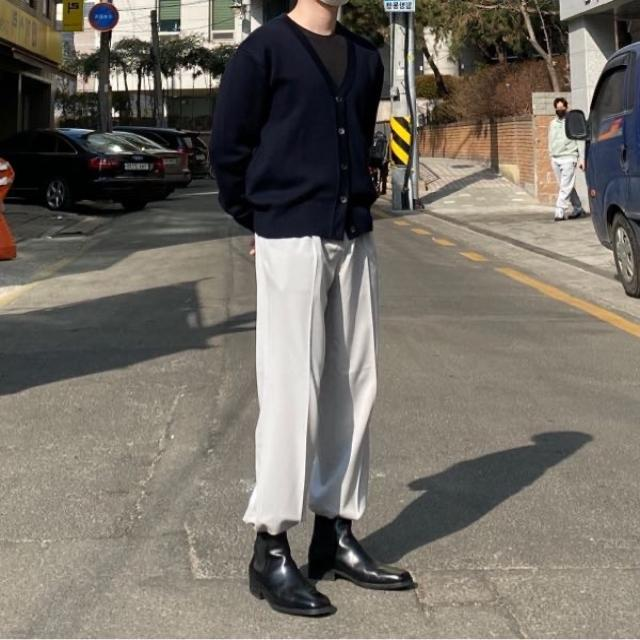cardigan: (211, 11, 381, 242)
slacks: (243, 209, 383, 526)
